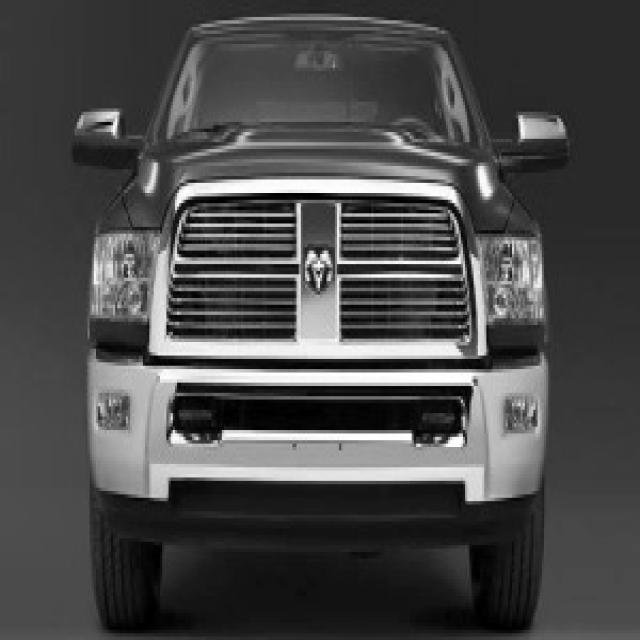car: (70, 10, 570, 633)
